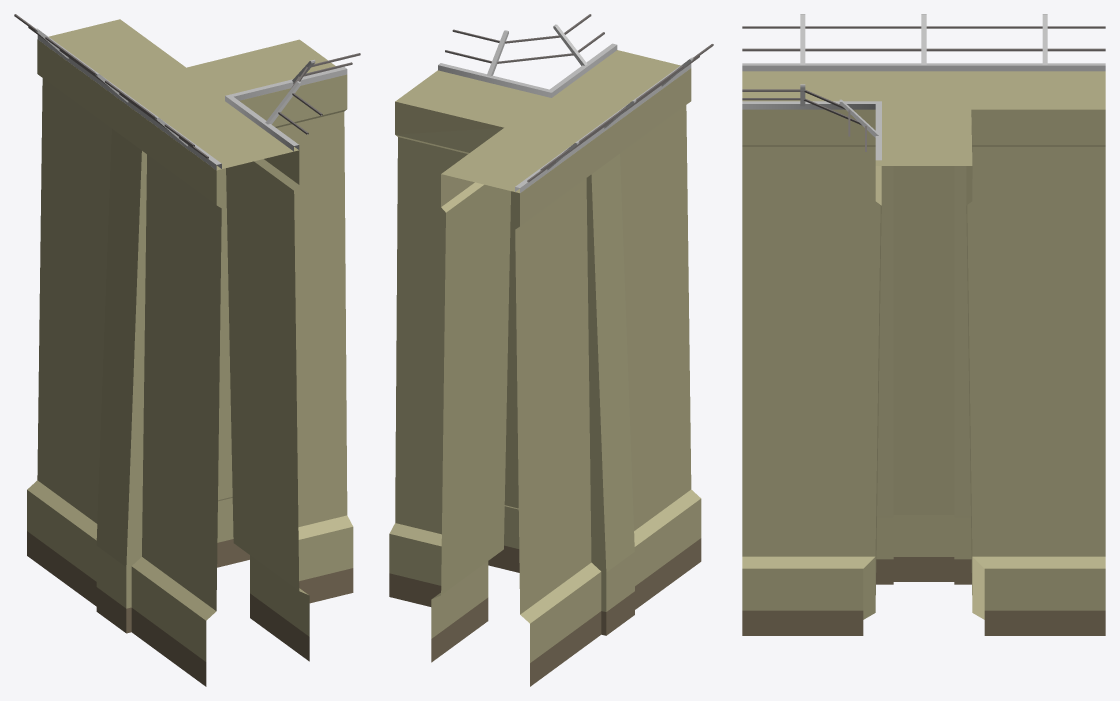
The model's file is SM_Wall_Big_Corner_A_Right_600.FBX.
The picture shows the model from 3 angles, left to right: view 1: azimuth 30°, elevation 25°; view 2: azimuth 150°, elevation 25°; view 3: azimuth 270°, elevation 25°; orthographic projection. The views are drawn at different scales.
Parts seen in each view (by area): view 1: SM_Wall_Big_Corner_A_Right_600; view 2: SM_Wall_Big_Corner_A_Right_600; view 3: SM_Wall_Big_Corner_A_Right_600.
Boxes of the visible parts, box(x1,y1,x2,y2) form: SM_Wall_Big_Corner_A_Right_600: box(14, 14, 360, 686); SM_Wall_Big_Corner_A_Right_600: box(389, 14, 713, 686); SM_Wall_Big_Corner_A_Right_600: box(742, 14, 1105, 635).
Bounding box in the file's own units: 440 × 600 × 1022.
